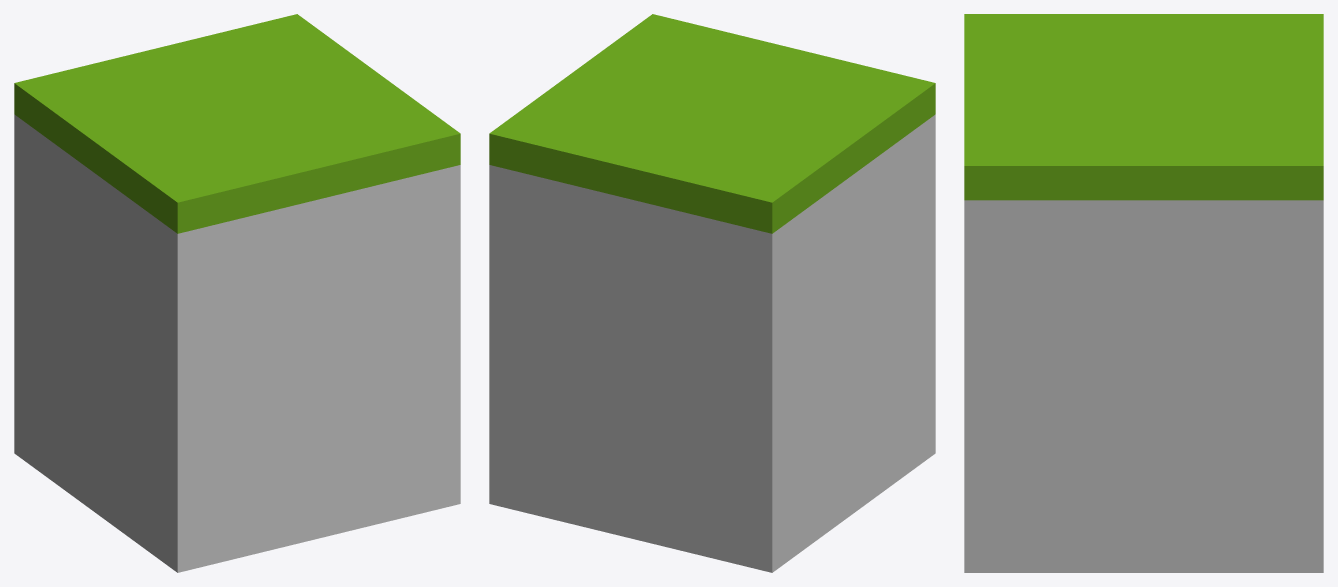
The model's file is block.fbx.
The picture shows the model from 3 angles, left to right: view 1: azimuth 30°, elevation 25°; view 2: azimuth 150°, elevation 25°; view 3: azimuth 270°, elevation 25°; orthographic projection. The views are drawn at different scales.
Visible parts, largest first — view 1: Cube.010; view 2: Cube.010; view 3: Cube.010.
Part boxes in pixels (box(x1,y1,x2,y2)): Cube.010: box(14, 14, 460, 572); Cube.010: box(489, 14, 935, 572); Cube.010: box(964, 14, 1323, 572).
Bounding box in the file's own units: 200 × 250 × 200.
